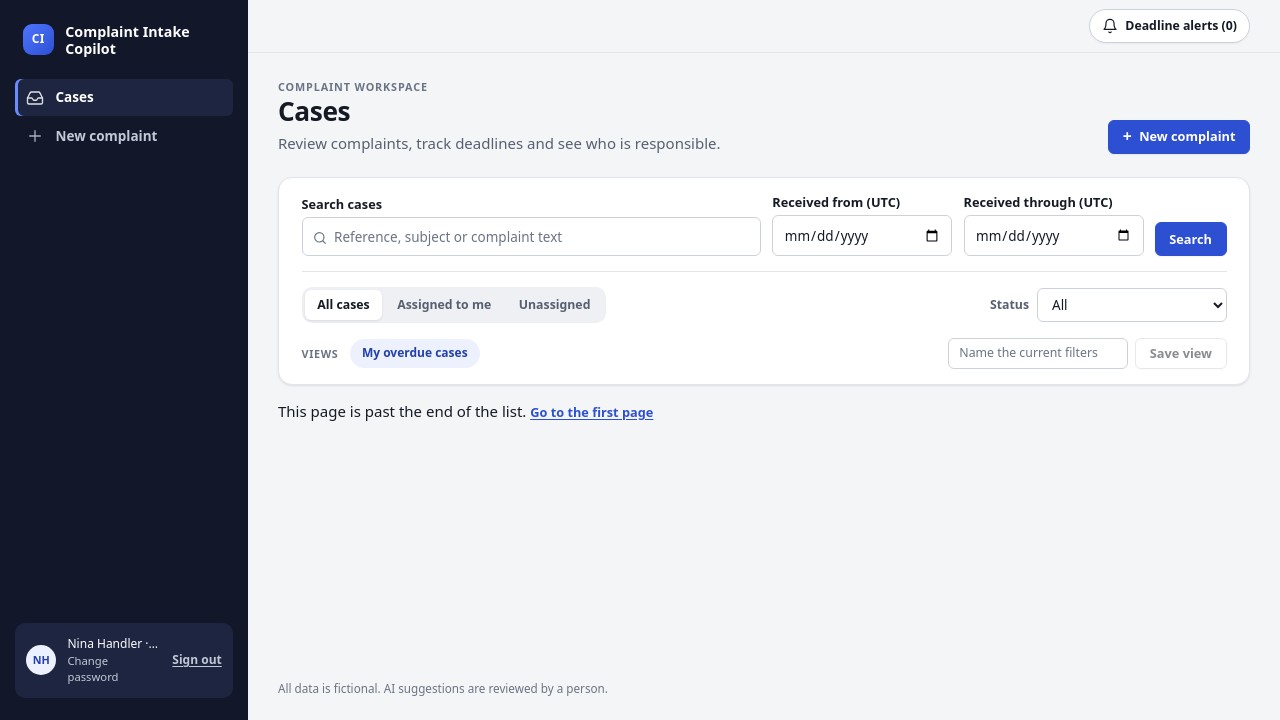
Scenario: BUG-2: a page past the end of the list › says so and leads back to the first page
The image size is (1280, 720).
Expected: the text "This page is past the end of the list. Go to the first page" is shown, 278,401 -> 653,421
What coordinates should you click on to do the following:
click the button "Go to the first page"
I would click on:
 (592, 413)
Its box is 530,405 -> 653,420.
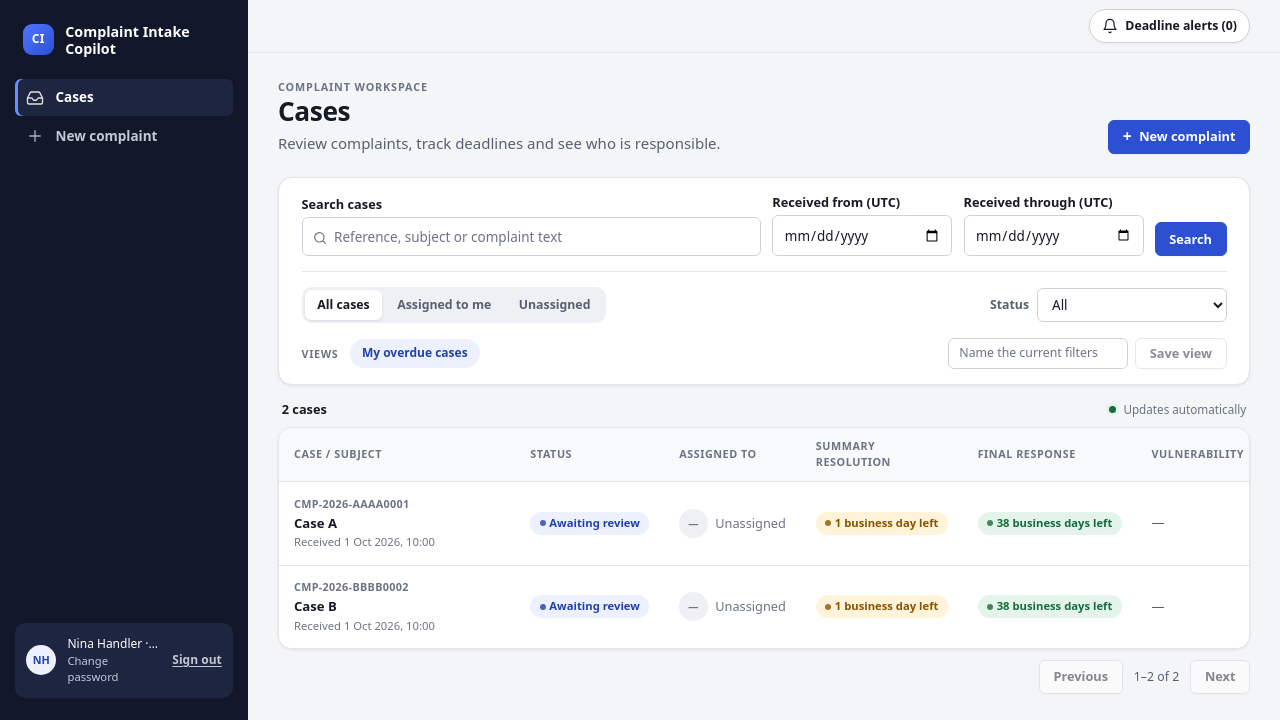
Now the link "CMP-2026-AAAA0001" is shown, box 294,496 -> 410,511
